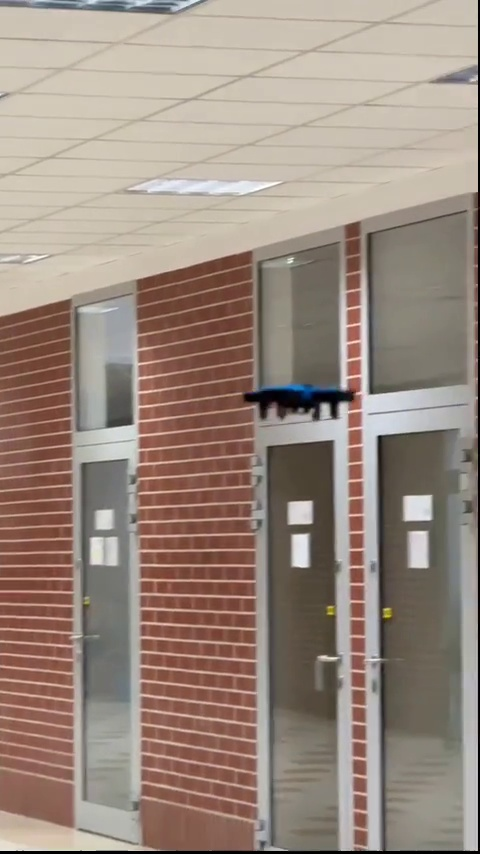drone: (243, 378, 352, 420)
